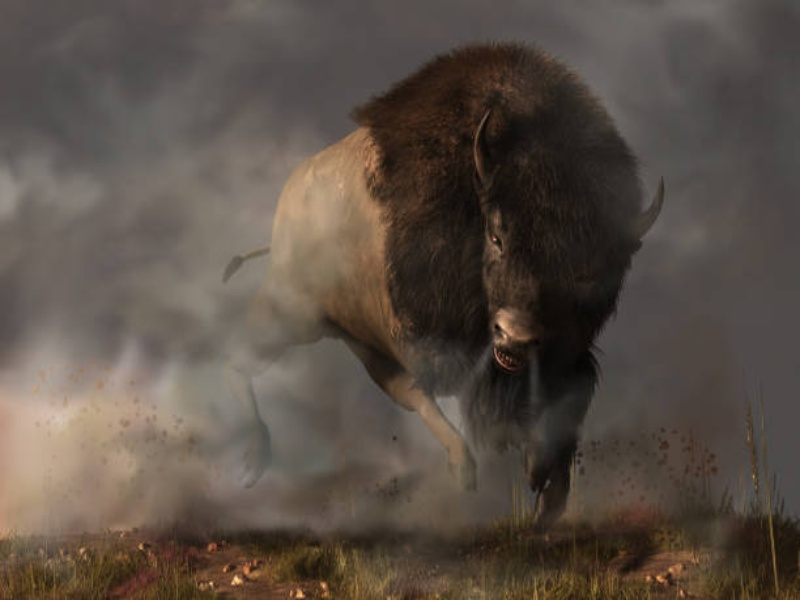buffalo: (221, 37, 671, 539)
